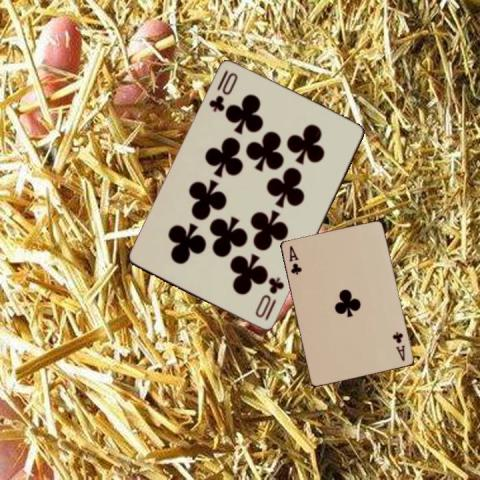10c: (252, 274, 286, 322), (206, 67, 239, 114)
Ac: (390, 329, 407, 362), (286, 243, 302, 276)
